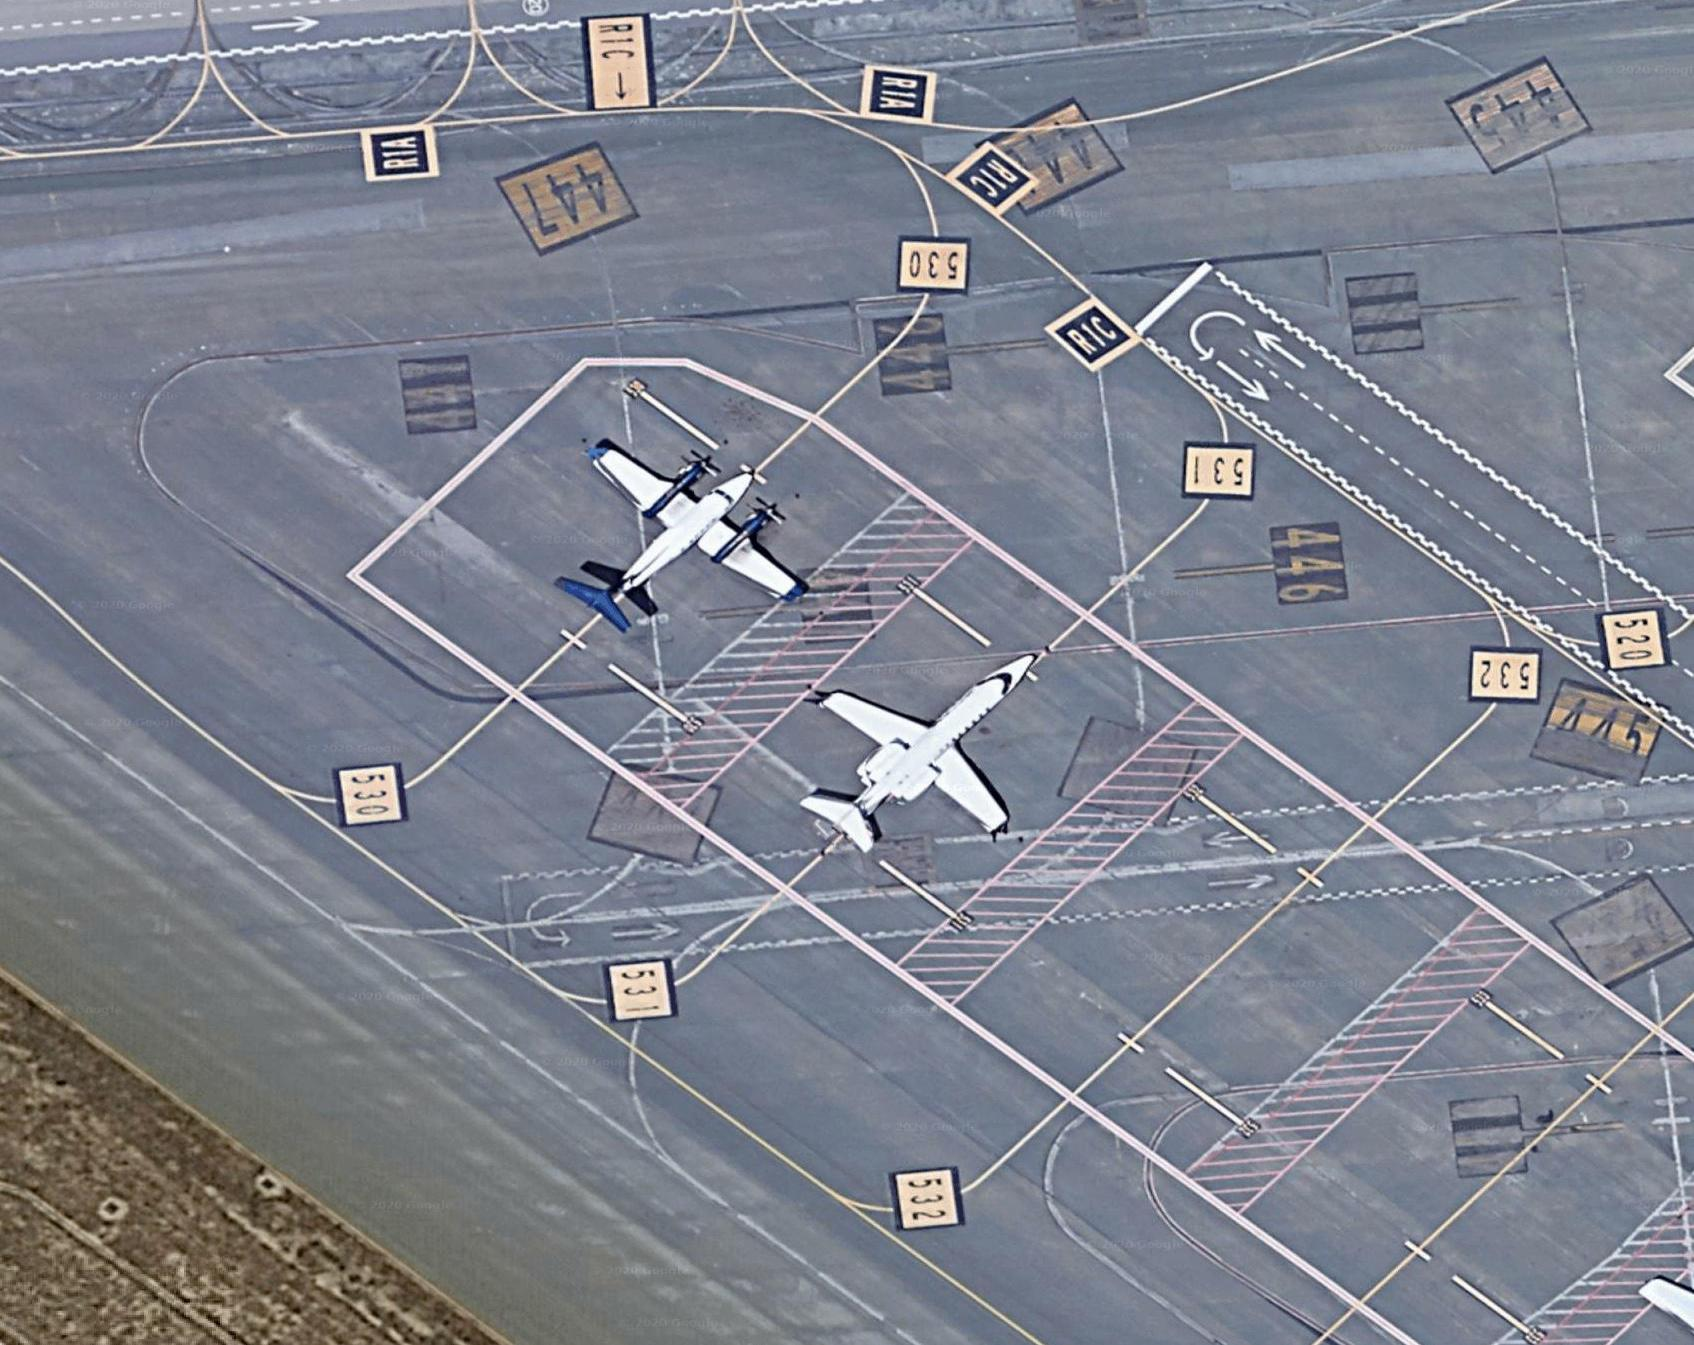plane: (491, 381, 870, 690), (764, 595, 1099, 904)
